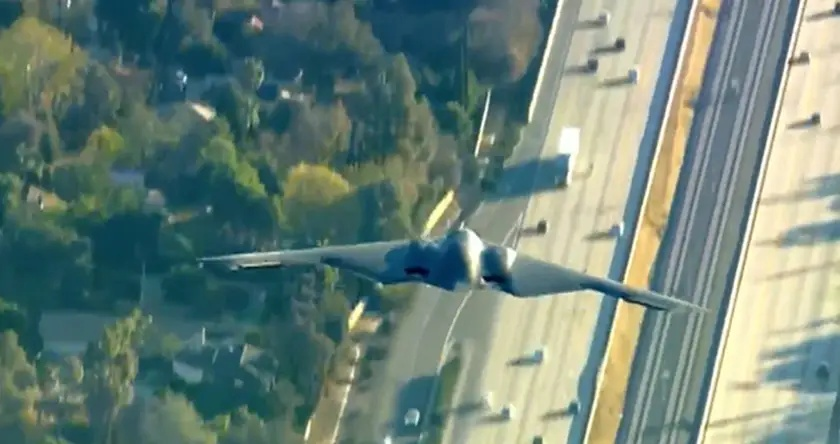B2: (195, 227, 714, 315)
